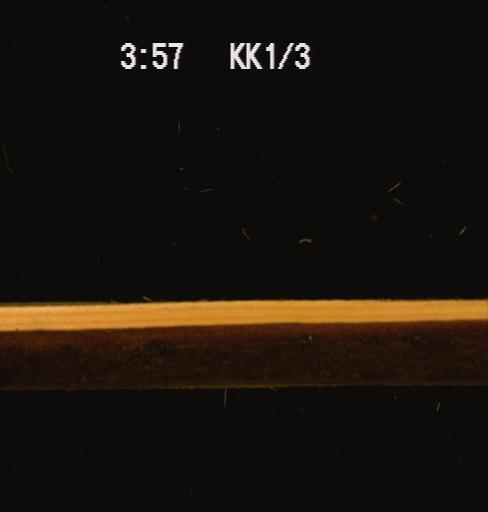wave: (0, 300, 487, 383)
